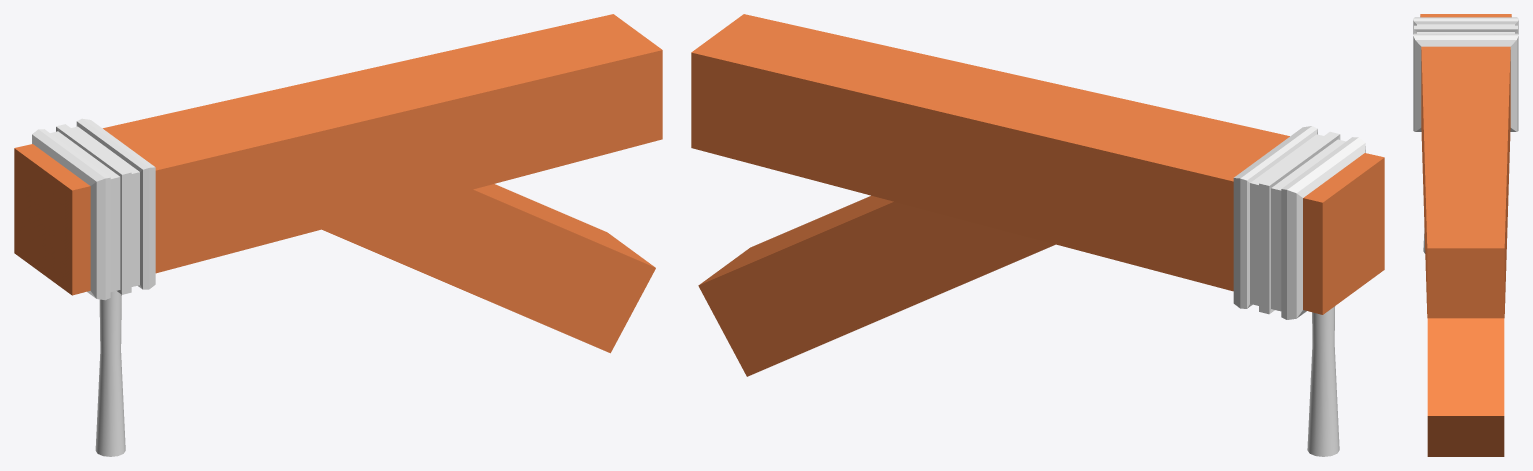
File: WoodRope.fbx
3 views of the same model, side by side, from view 1: azimuth 30°, elevation 25°; view 2: azimuth 150°, elevation 25°; view 3: azimuth 270°, elevation 25° (orthographic). The views are drawn at different scales.
Visible parts, largest first — view 1: WoodRope; view 2: WoodRope; view 3: WoodRope.
Part boxes in pixels (x1=…): WoodRope: x1=14, y1=14, x2=662, y2=456; WoodRope: x1=691, y1=14, x2=1384, y2=456; WoodRope: x1=1413, y1=14, x2=1518, y2=456.
Size of the model in its own units: 319 by 157 by 62.37.
